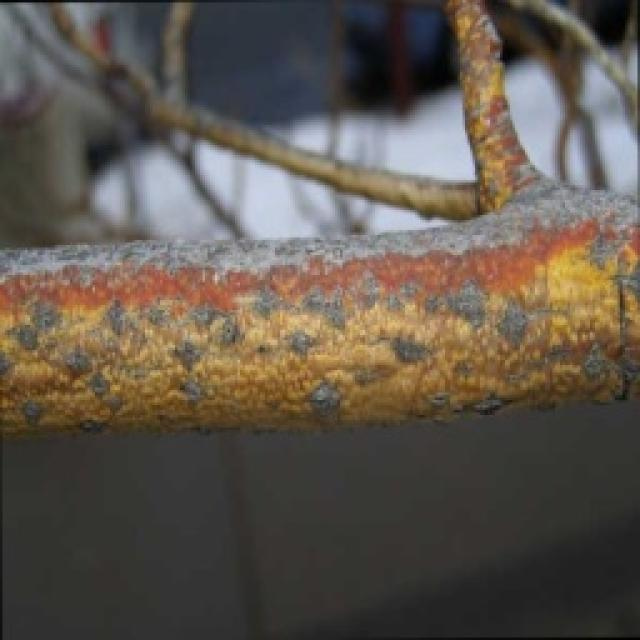Golden_canker: (0, 28, 640, 457)
